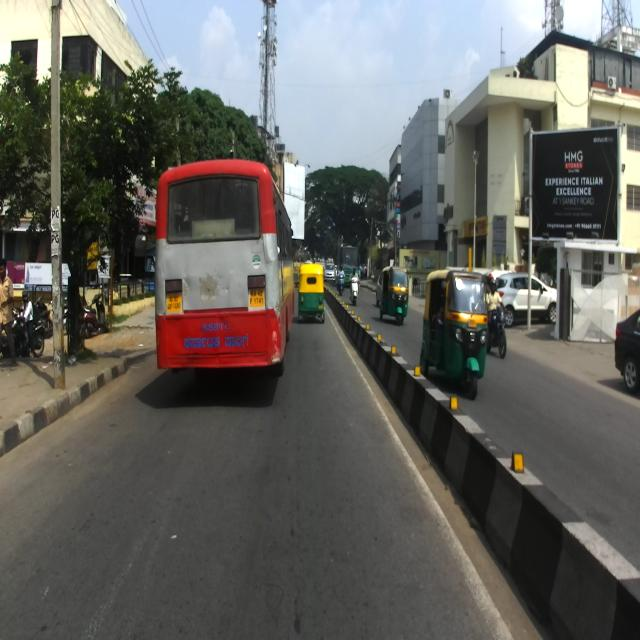auto ahead at: (420, 269, 492, 402), (298, 258, 325, 326)
bus ahead at: (156, 158, 297, 380)
electric pole ahead at: (47, 1, 75, 399)
